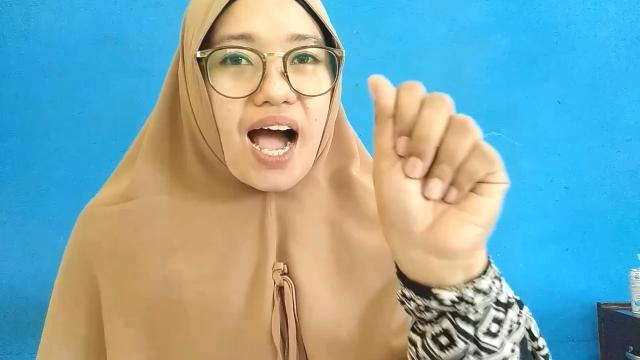A: (366, 74, 510, 268)
